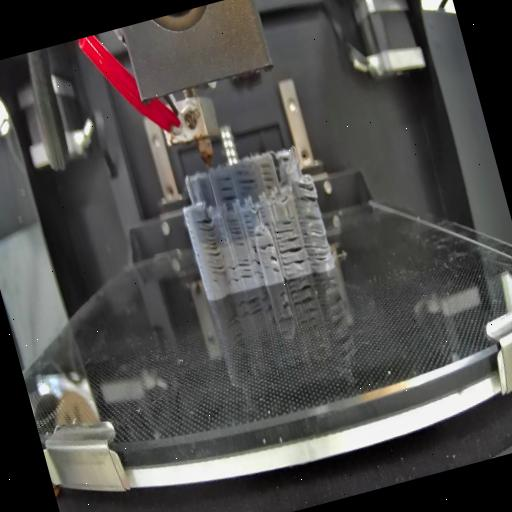cracks: (194, 213, 228, 280), (296, 211, 332, 265), (276, 233, 306, 273), (225, 255, 263, 285), (233, 165, 259, 197), (292, 179, 318, 207), (214, 172, 236, 204), (256, 157, 276, 192), (226, 213, 244, 249), (240, 206, 256, 234), (272, 218, 294, 238), (249, 240, 274, 256), (257, 206, 272, 229), (266, 252, 280, 276), (278, 155, 290, 167), (254, 230, 266, 240)
